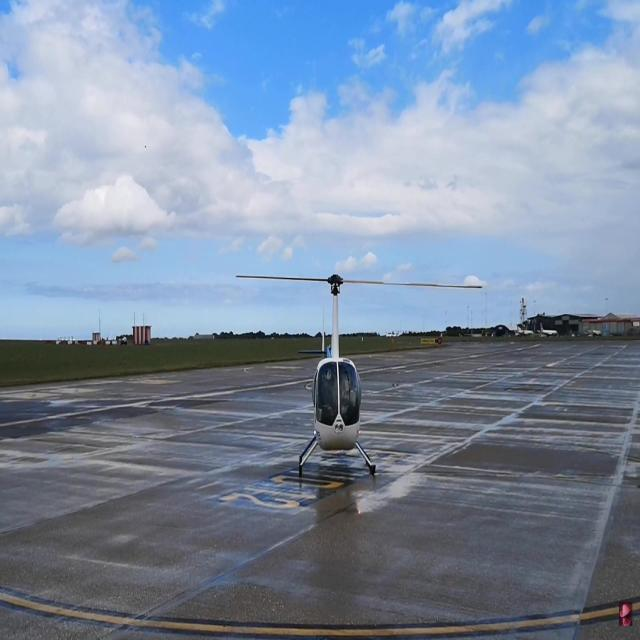CIV_HELO: (298, 273, 377, 477)
